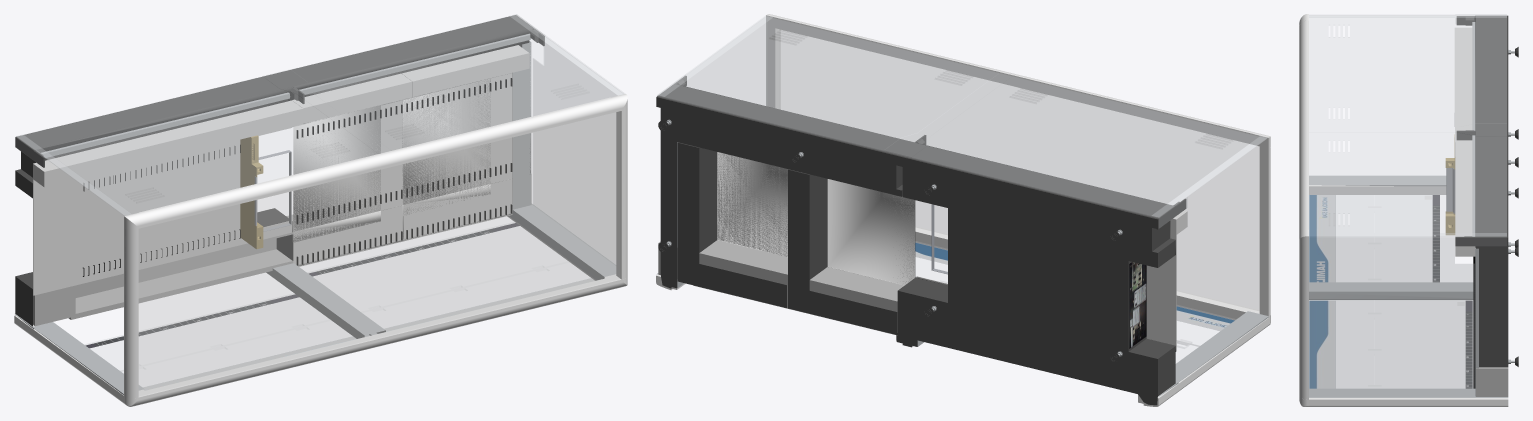
The model's file is starplus_base_with_top_panel.glb.
The picture shows the model from 3 angles, left to right: view 1: azimuth 30°, elevation 25°; view 2: azimuth 150°, elevation 25°; view 3: azimuth 270°, elevation 25°; orthographic projection. The views are drawn at different scales.
Visible parts, largest first — view 1: starplus_base; view 2: starplus_base; view 3: starplus_base.
Part boxes in pixels (box(x1,y1,x2,y2)): starplus_base: box(14, 14, 627, 406); starplus_base: box(656, 14, 1270, 406); starplus_base: box(1299, 14, 1518, 406).
Bounding box in the file's own units: 2.16 × 0.7926 × 0.903.
Materials: 16 (5 with a texture image).
